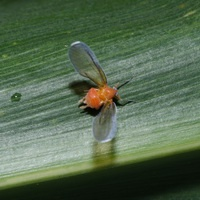insect: (69, 41, 119, 142)
